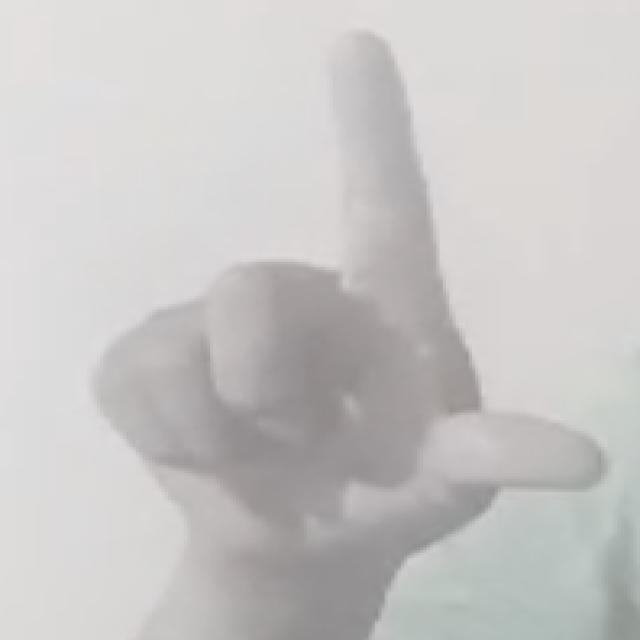LL: (82, 29, 619, 568)
